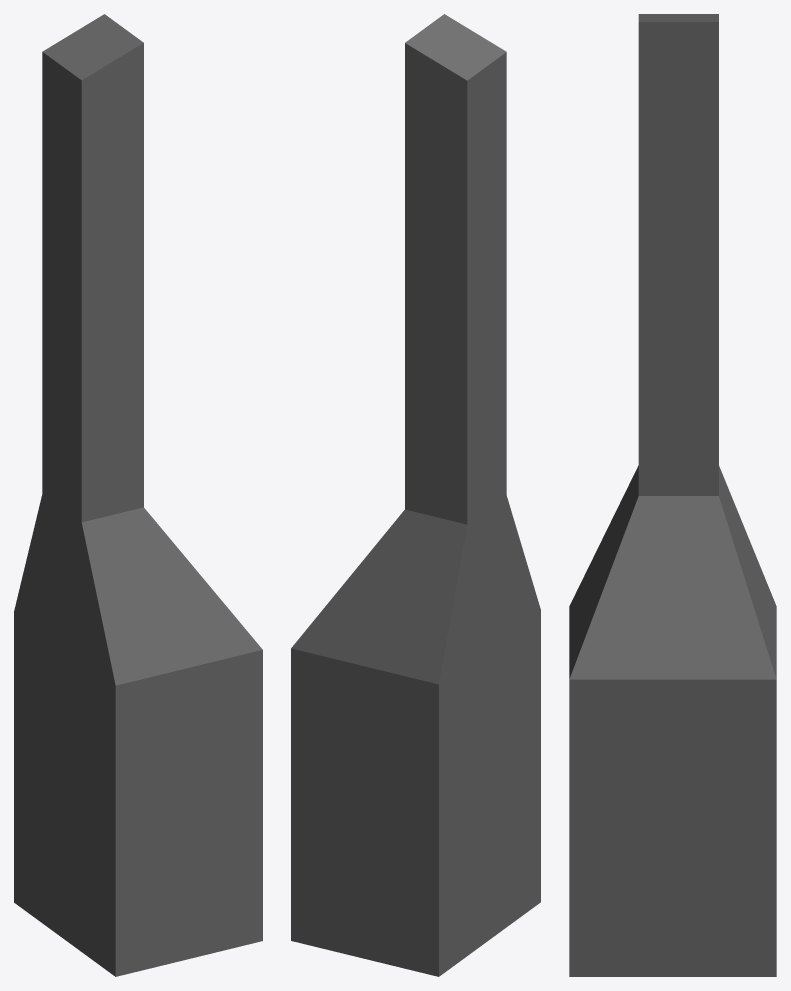
Rendered from pillar_7.fbx.
3 views of the same model, side by side, from view 1: azimuth 30°, elevation 25°; view 2: azimuth 150°, elevation 25°; view 3: azimuth 270°, elevation 25° (orthographic). The views are drawn at different scales.
Parts seen in each view (by area): view 1: Object.032; view 2: Object.032; view 3: Object.032.
Boxes of the visible parts, x1,y1,x2,y2 form: Object.032: (14, 14, 262, 976); Object.032: (291, 14, 540, 976); Object.032: (569, 14, 776, 976).
Bounding box in the file's own units: 203 × 1176 × 242.
